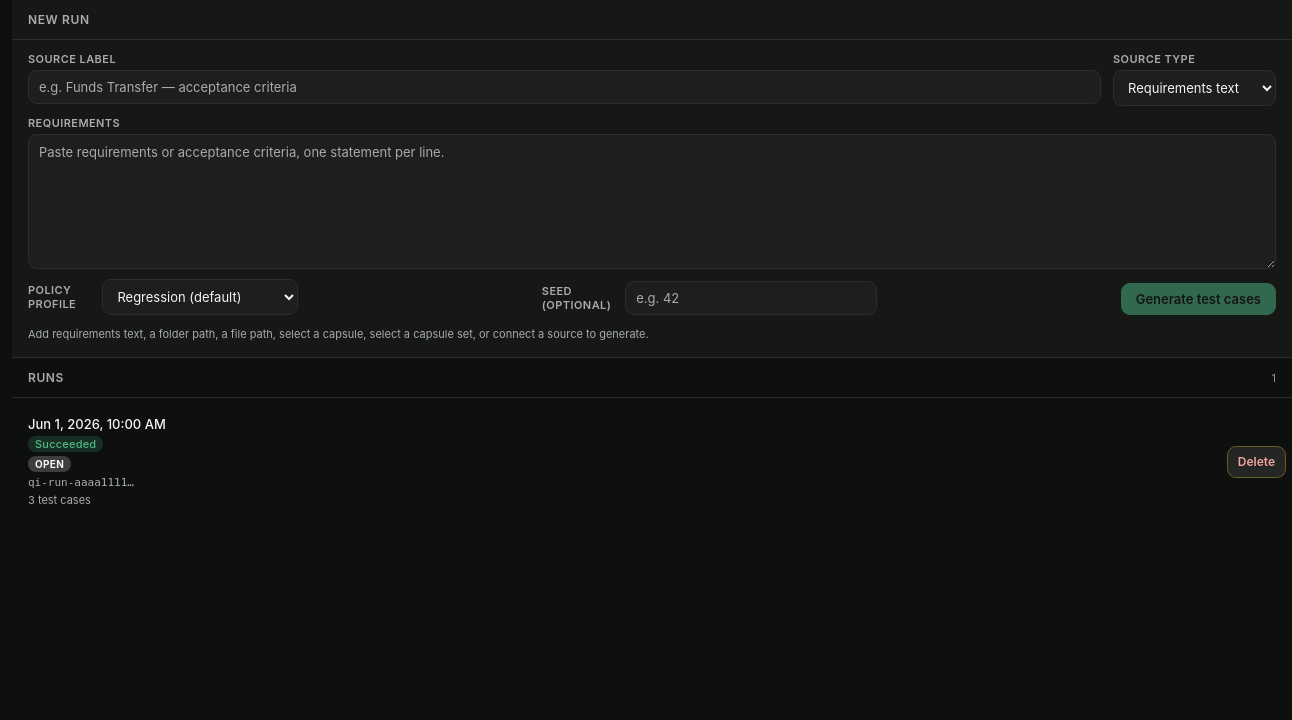
Test case: QiHubPanel › deletes a run on confirm and removes it from the list after the refetch
Click the button with aria-label "delete run": coordinates (1256, 462) left=1227, top=446, right=1286, bottom=478
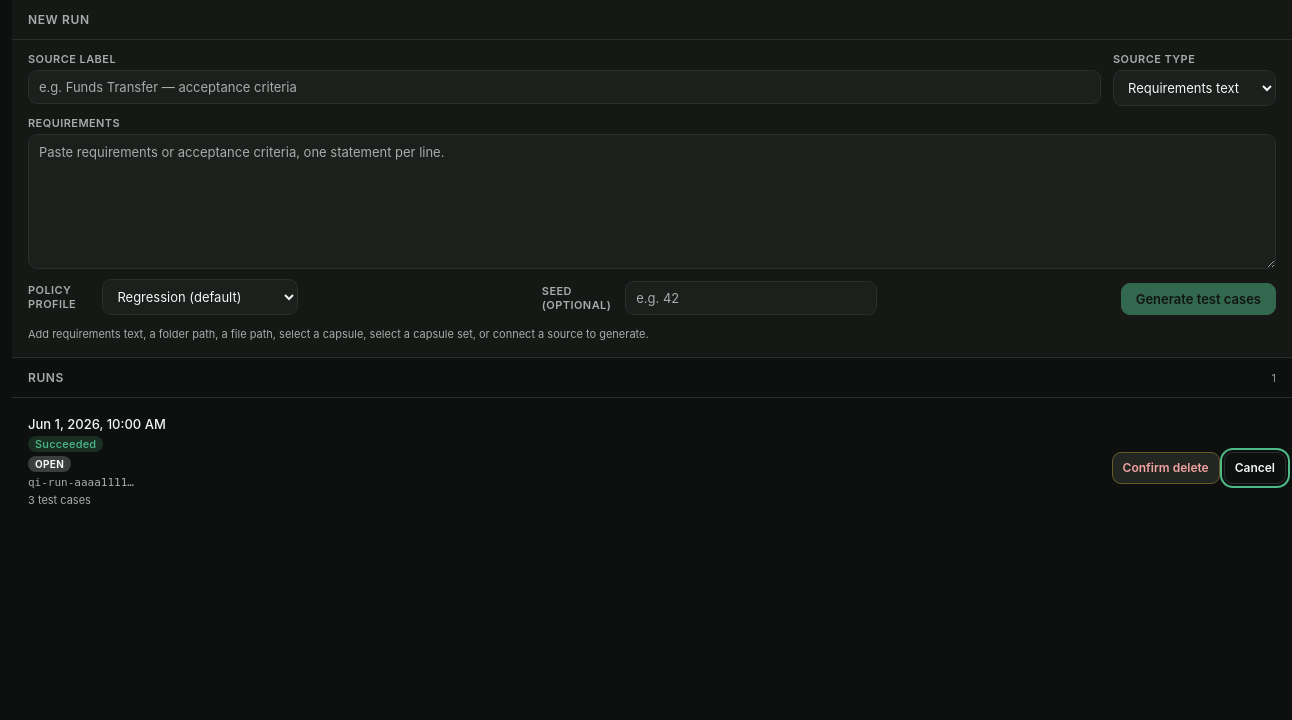
Click the button "Confirm delete": coordinates (1166, 468) left=1112, top=452, right=1220, bottom=484
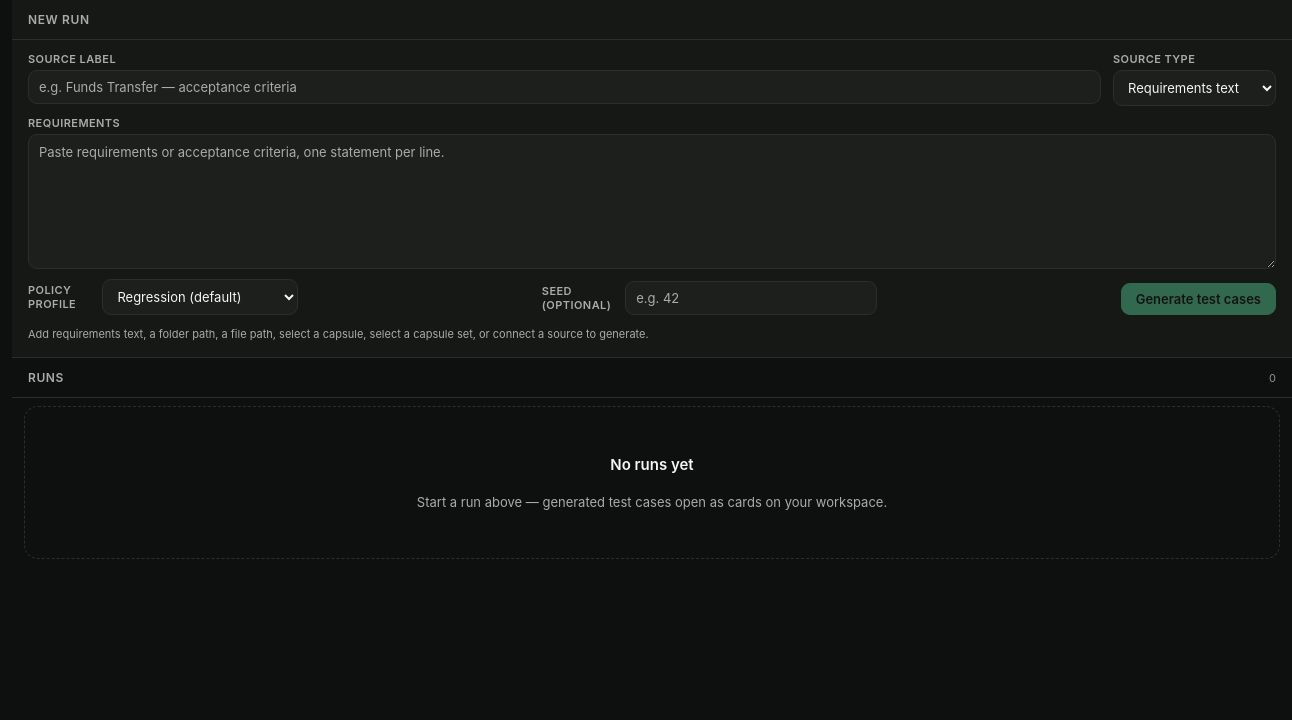
Now the text "No runs yet" is shown, box left=610, top=455, right=694, bottom=474
